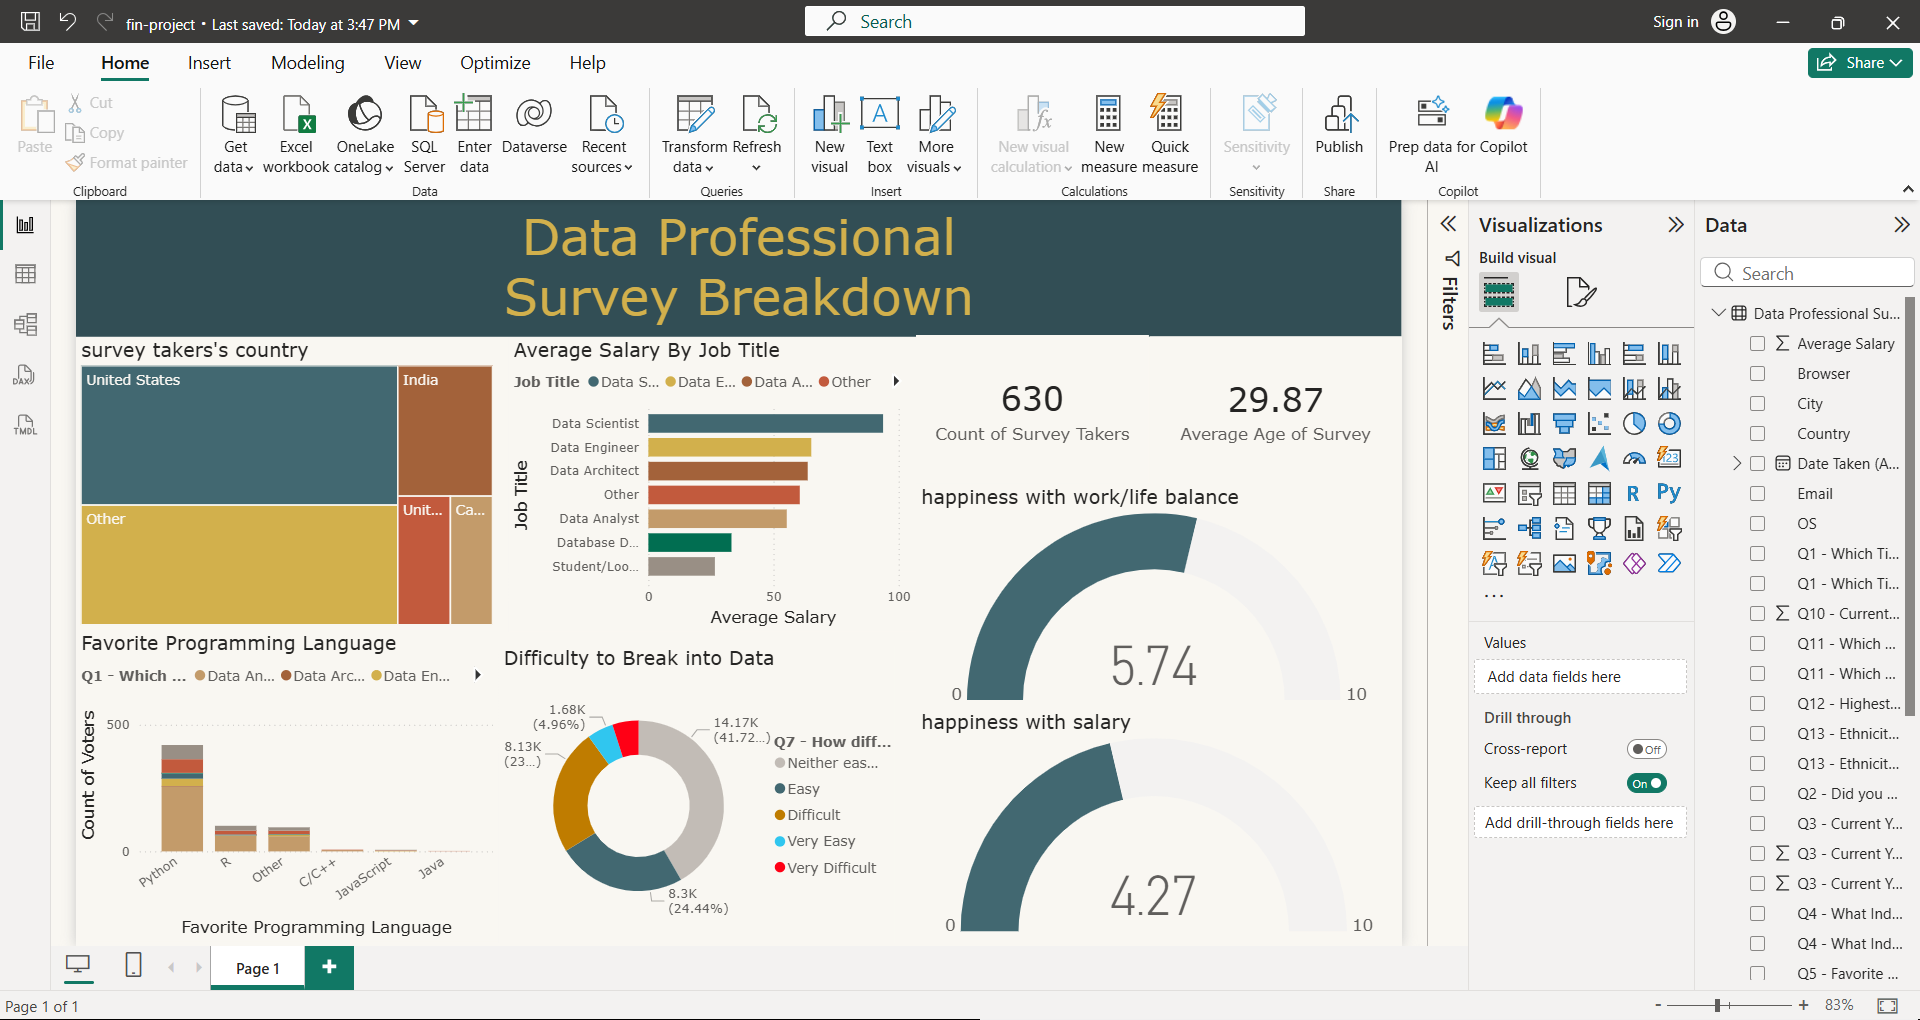

Layout of this report page (visuals, bound fields, positions):
{"tool":"powerbi","page":{"name":"Page 1","canvas":[1280,720],"ordinal":0},"visuals":[{"type":"textbox","box":[0,0,1279.4,132],"z":0},{"type":"card","fields":{"Values":["Count(Data Professional Survey.Unique ID)"]},"box":[810.7,130.8,225,143.1],"z":1000},{"type":"card","fields":{"Values":["Avg(Data Professional Survey.Q10 - Current Age)"]},"box":[1035.7,132.1,243.3,141.8],"z":2000},{"type":"barChart","title":"Average Salary By Job Title","fields":{"Category":["Data Professional Survey.Q1 - Which Title Best Fits your Current Role?.1"],"Y":["Avg(Data Professional Survey.Average Salary)"],"Series":["Data Professional Survey.Q1 - Which Title Best Fits your Current Role?.1"]},"box":[417,133.3,393.8,283.7],"z":3000},{"type":"columnChart","title":"Favorite Programming Language","fields":{"Category":["Data Professional Survey.Q5 - Favorite Programming Language.1"],"Y":["CountNonNull(Data Professional Survey.Unique ID)"],"Series":["Data Professional Survey.Q1 - Which Title Best Fits your Current Role?.1"]},"box":[0,415.8,407.2,299.6],"z":4000},{"type":"treemap","title":"survey takers''s country","fields":{"Group":["Data Professional Survey.Q11 - Which Country do you live in?.1"],"Values":["CountNonNull(Data Professional Survey.Q11 - Which Country do you live in?.1)"]},"box":[0,133.3,407.2,282.5],"z":5000},{"type":"gauge","title":"happiness with work/life balance","fields":{"Y":["Avg(Data Professional Survey.Q6 - How Happy are you in your Current Position with the following? (Work/Life Balance))"],"MinValue":["Min(Data Professional Survey.Q6 - How Happy are you in your Current Position with the following? (Work/Life Balance))1"],"MaxValue":["Max(Data Professional Survey.Q6 - How Happy are you in your Current Position with the following? (Work/Life Balance))2"]},"box":[810.7,275.1,469.6,217.7],"z":6000},{"type":"gauge","title":"happiness with salary","fields":{"Y":["Avg(Data Professional Survey.Q6 - How Happy are you in your Current Position with the following? (Salary))"],"MinValue":["Min(Data Professional Survey.Q6 - How Happy are you in your Current Position with the following? (Salary))"],"MaxValue":["Max(Data Professional Survey.Q6 - How Happy are you in your Current Position with the following? (Salary))"]},"box":[810.7,492.8,469.6,223.8],"z":7000},{"type":"donutChart","title":"Difficulty to Break into Data","fields":{"Category":["Data Professional Survey.Q7 - How difficult was it for you to break into Data?"],"Y":["Sum(Data Professional Survey.Average Salary)"]},"box":[407.2,430.4,382.7,286.1],"z":7001}]}

Visuals, with their boxes on the page's 1280x720 design canvas (x1, y1, x2, y2). These are canvas units, not pixel positions in the 1920x1020 screenshot, which may show the page scaled, cropped or inside an application window:
textbox: l=0, t=0, r=1279, b=132
card - Count(Data Professional Survey.Unique ID): l=811, t=131, r=1036, b=274
card - Avg(Data Professional Survey.Q10 - Current Age): l=1036, t=132, r=1279, b=274
"Average Salary By Job Title" barChart: l=417, t=133, r=811, b=417
"Favorite Programming Language" columnChart: l=0, t=416, r=407, b=715
"survey takers''s country" treemap: l=0, t=133, r=407, b=416
"happiness with work/life balance" gauge: l=811, t=275, r=1280, b=493
"happiness with salary" gauge: l=811, t=493, r=1280, b=717
"Difficulty to Break into Data" donutChart: l=407, t=430, r=790, b=716
